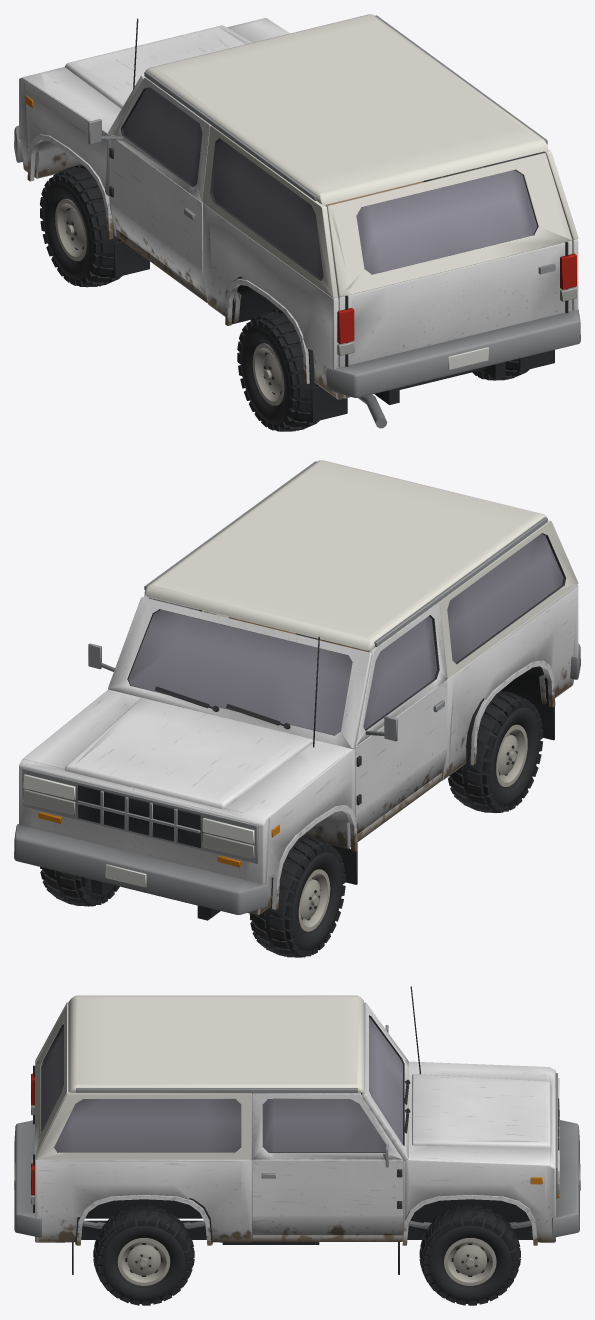
File: squarebody.glb
The picture shows the model from 3 angles, top to bottom: view 1: azimuth 30°, elevation 25°; view 2: azimuth 150°, elevation 25°; view 3: azimuth 270°, elevation 25°; orthographic projection. The views are drawn at different scales.
Parts seen in each view (by area): view 1: body, door_FL, wheel_FL, wheel_RL; view 2: body, door_FL, wheel_FL, wheel_RL, wheel_FR; view 3: body, door_FR, wheel_RR, wheel_FR.
Part boxes in pixels (x1,y1,x2,y2): body: (14,14,580,428); door_FL: (88,77,211,293); wheel_FL: (40,165,121,287); wheel_RL: (237,309,319,431); body: (14,460,580,920); door_FL: (355,602,447,834); wheel_FL: (249,835,345,957); wheel_RL: (448,691,542,812); wheel_FR: (40,867,119,906); body: (14,986,580,1274); door_FR: (252,1093,403,1235); wheel_RR: (93,1205,194,1305); wheel_FR: (419,1205,520,1305).
Bounding box in the file's own units: 2.44 × 2.16 × 4.7.
Materials: 17 (1 with a texture image).
